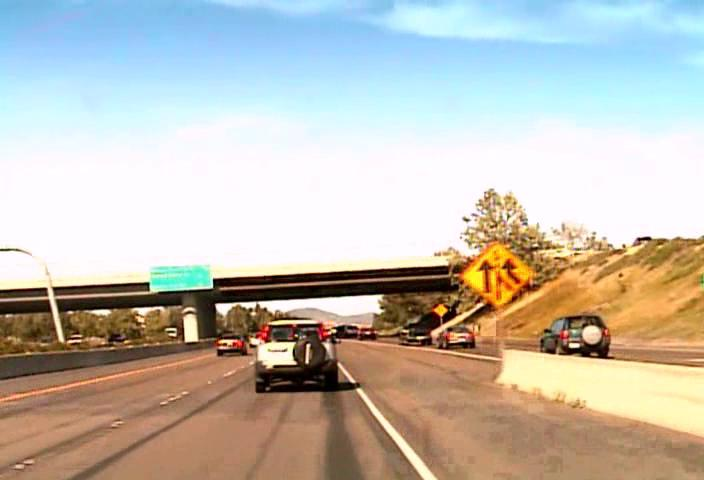addedLane: (460, 240, 533, 309)
